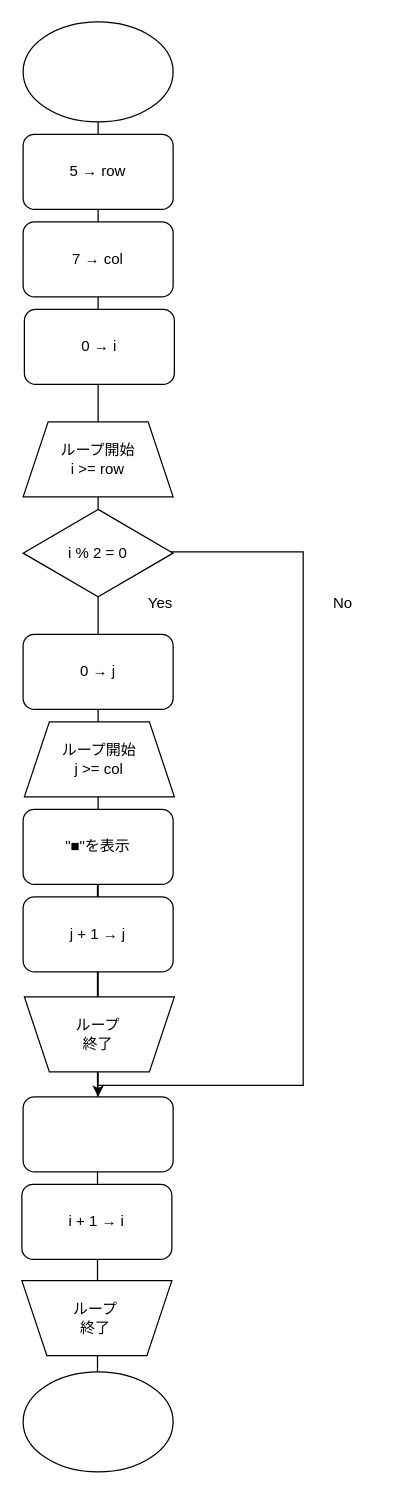
The diagram is 403 pixels wide and 1494 high, and some of its shapes have lost their labels. The box of each missing label's shape, as (x1, y1, x2, y2) in pixels:
改行: (22, 1096, 173, 1172)
終了: (22, 1371, 173, 1472)
開始: (22, 21, 173, 122)
